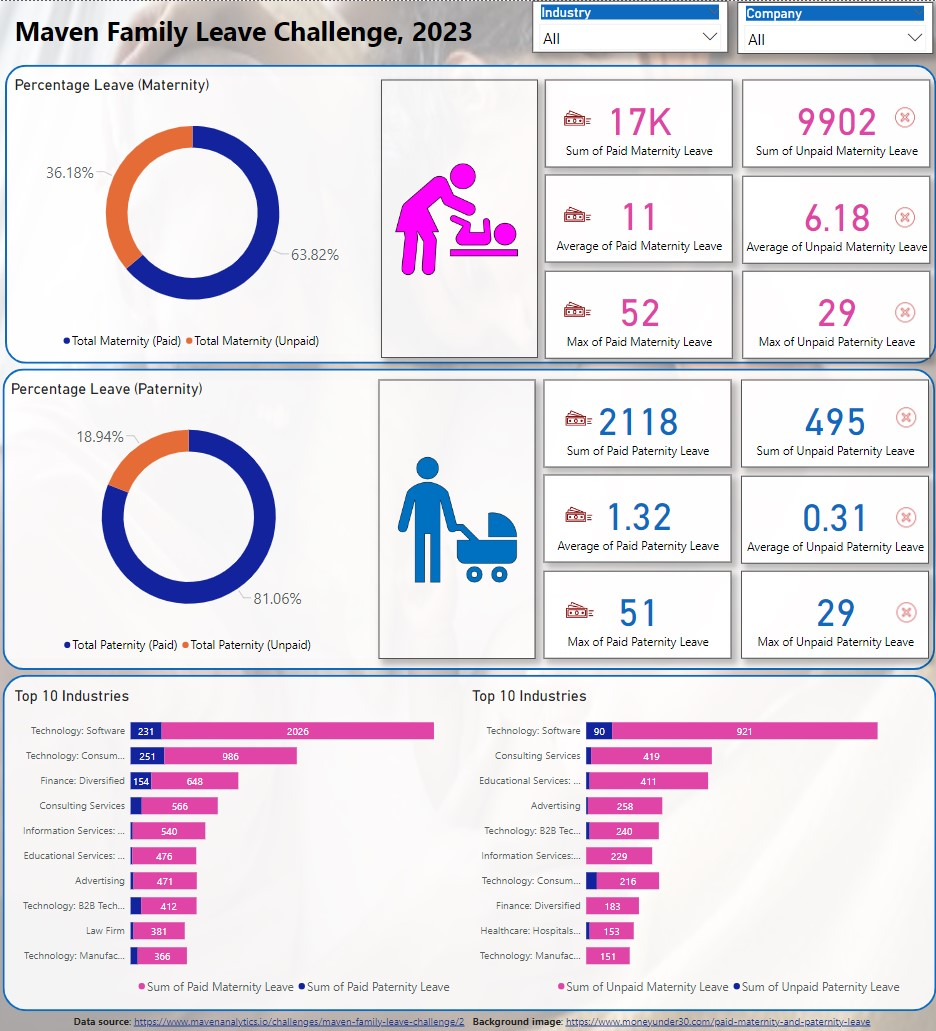

Layout of this report page (visuals, bound fields, positions):
{"tool":"powerbi","page":{"name":"Page 1","canvas":[1500,1650],"ordinal":0},"visuals":[{"type":"shape","box":[8,102,1490,478],"z":0},{"type":"shape","box":[4,588,1492,482],"z":1000},{"type":"card","fields":{"Values":["Sum(Table1.Paid Maternity Leave)"]},"box":[872,125.6,300,140],"z":2000},{"type":"image","box":[610.3,125,250,445],"z":3000},{"type":"image","box":[605.6,605.3,250,446],"z":4000},{"type":"donutChart","title":"Percentage Leave (Maternity)","fields":{"Y":["Table1.Total Maternity (Paid)","Table1.Total Maternity (Unpaid)"]},"box":[17.8,120,580,445],"z":5000},{"type":"slicer","fields":{"Values":["Table1.Industry"]},"box":[852.5,0,312.5,82.5],"z":6000},{"type":"slicer","fields":{"Values":["Table1.Company"]},"box":[1180,2.5,312.5,82.5],"z":7000},{"type":"card","fields":{"Values":["Avg(Table1.Paid Maternity Leave)"]},"box":[872,278.6,300,140],"z":8000},{"type":"card","fields":{"Values":["Max(Table1.Paid Maternity Leave)"]},"box":[872,431.6,300,140],"z":9000},{"type":"card","fields":{"Values":["Sum(Table1.Unpaid Maternity Leave)"]},"box":[1188.1,126,300,140],"z":10000},{"type":"card","fields":{"Values":["Avg(Table1.Unpaid Maternity Leave)"]},"box":[1188.1,279,300,140],"z":11000},{"type":"card","fields":{"Values":["Max(Table1.Unpaid Paternity Leave)"]},"box":[1188.1,432,300,140],"z":12000},{"type":"card","fields":{"Values":["Sum(Table1.Paid Paternity Leave)"]},"box":[869.3,605.7,300,140],"z":13000},{"type":"card","fields":{"Values":["Avg(Table1.Paid Paternity Leave)"]},"box":[869.3,758.7,300,140],"z":14000},{"type":"card","fields":{"Values":["Max(Table1.Paid Paternity Leave)"]},"box":[869.3,911.7,300,140],"z":15000},{"type":"card","fields":{"Values":["Sum(Table1.Unpaid Paternity Leave)"]},"box":[1185.5,606.1,300,140],"z":16000},{"type":"card","fields":{"Values":["Avg(Table1.Unpaid Paternity Leave)"]},"box":[1185.5,759.1,300,140],"z":17000},{"type":"card","fields":{"Values":["Max(Table1.Unpaid Paternity Leave)"]},"box":[1185.5,912.1,300,140],"z":18000},{"type":"image","box":[1405.2,641.7,88,48],"z":19000},{"type":"image","box":[863.2,641.7,124,54],"z":20000},{"type":"donutChart","title":"Percentage Leave (Paternity)","fields":{"Y":["Table1.Total Paternity (Paid)","Table1.Total Paternity (Unpaid)"]},"box":[11.6,605.3,580,446],"z":21000},{"type":"image","box":[863.2,795.7,124,54],"z":22000},{"type":"image","box":[863.2,947.2,127.5,55],"z":23000},{"type":"image","box":[1405.2,801.7,88,48],"z":24000},{"type":"image","box":[1415.2,953.7,68,48],"z":25000},{"type":"image","box":[1404,161.1,88,48],"z":26000},{"type":"image","box":[862,161.1,124,54],"z":27000},{"type":"image","box":[862,315.1,124,54],"z":28000},{"type":"image","box":[862,467.1,124,54],"z":29000},{"type":"image","box":[1404,321.1,88,48],"z":30000},{"type":"image","box":[1414,473.1,68,48],"z":31000},{"type":"textbox","box":[17.5,12.5,762.5,75],"z":32000},{"type":"shape","box":[4,1078,1494,538],"z":33000},{"type":"barChart","title":"Top 10 Industries","fields":{"Y":["Sum(Table1.Paid Maternity Leave)","Sum(Table1.Paid Paternity Leave)"],"Category":["Table1.Industry"]},"box":[18,1098,712,500],"z":34000},{"type":"barChart","title":"Top 10 Industries","fields":{"Y":["Sum(Table1.Unpaid Maternity Leave)","Sum(Table1.Unpaid Paternity Leave)"],"Category":["Table1.Industry"]},"box":[750,1098,700,500],"z":35000},{"type":"textbox","box":[62,1616,1386,34],"z":36000}]}

Visuals, with their boxes in screenshot pixels (x1, y1, x2, y2), scaled from the page's 1500x1650 canvas onto the 936x1031 screenshot:
shape: box=[5, 64, 935, 362]
shape: box=[2, 367, 934, 669]
card - Sum(Table1.Paid Maternity Leave): box=[544, 78, 731, 166]
image: box=[381, 78, 537, 356]
image: box=[378, 378, 534, 657]
"Percentage Leave (Maternity)" donutChart: box=[11, 75, 373, 353]
slicer - Table1.Industry: box=[532, 0, 727, 52]
slicer - Table1.Company: box=[736, 2, 931, 53]
card - Avg(Table1.Paid Maternity Leave): box=[544, 174, 731, 262]
card - Max(Table1.Paid Maternity Leave): box=[544, 270, 731, 357]
card - Sum(Table1.Unpaid Maternity Leave): box=[741, 79, 929, 166]
card - Avg(Table1.Unpaid Maternity Leave): box=[741, 174, 929, 262]
card - Max(Table1.Unpaid Paternity Leave): box=[741, 270, 929, 357]
card - Sum(Table1.Paid Paternity Leave): box=[542, 378, 730, 466]
card - Avg(Table1.Paid Paternity Leave): box=[542, 474, 730, 562]
card - Max(Table1.Paid Paternity Leave): box=[542, 570, 730, 657]
card - Sum(Table1.Unpaid Paternity Leave): box=[740, 379, 927, 466]
card - Avg(Table1.Unpaid Paternity Leave): box=[740, 474, 927, 562]
card - Max(Table1.Unpaid Paternity Leave): box=[740, 570, 927, 657]
image: box=[877, 401, 932, 431]
image: box=[539, 401, 616, 435]
"Percentage Leave (Paternity)" donutChart: box=[7, 378, 369, 657]
image: box=[539, 497, 616, 531]
image: box=[539, 592, 618, 626]
image: box=[877, 501, 932, 531]
image: box=[883, 596, 926, 626]
image: box=[876, 101, 931, 131]
image: box=[538, 101, 615, 134]
image: box=[538, 197, 615, 231]
image: box=[538, 292, 615, 326]
image: box=[876, 201, 931, 231]
image: box=[882, 296, 925, 326]
textbox: box=[11, 8, 487, 55]
shape: box=[2, 674, 935, 1010]
"Top 10 Industries" barChart: box=[11, 686, 456, 999]
"Top 10 Industries" barChart: box=[468, 686, 905, 999]
textbox: box=[39, 1010, 904, 1030]
